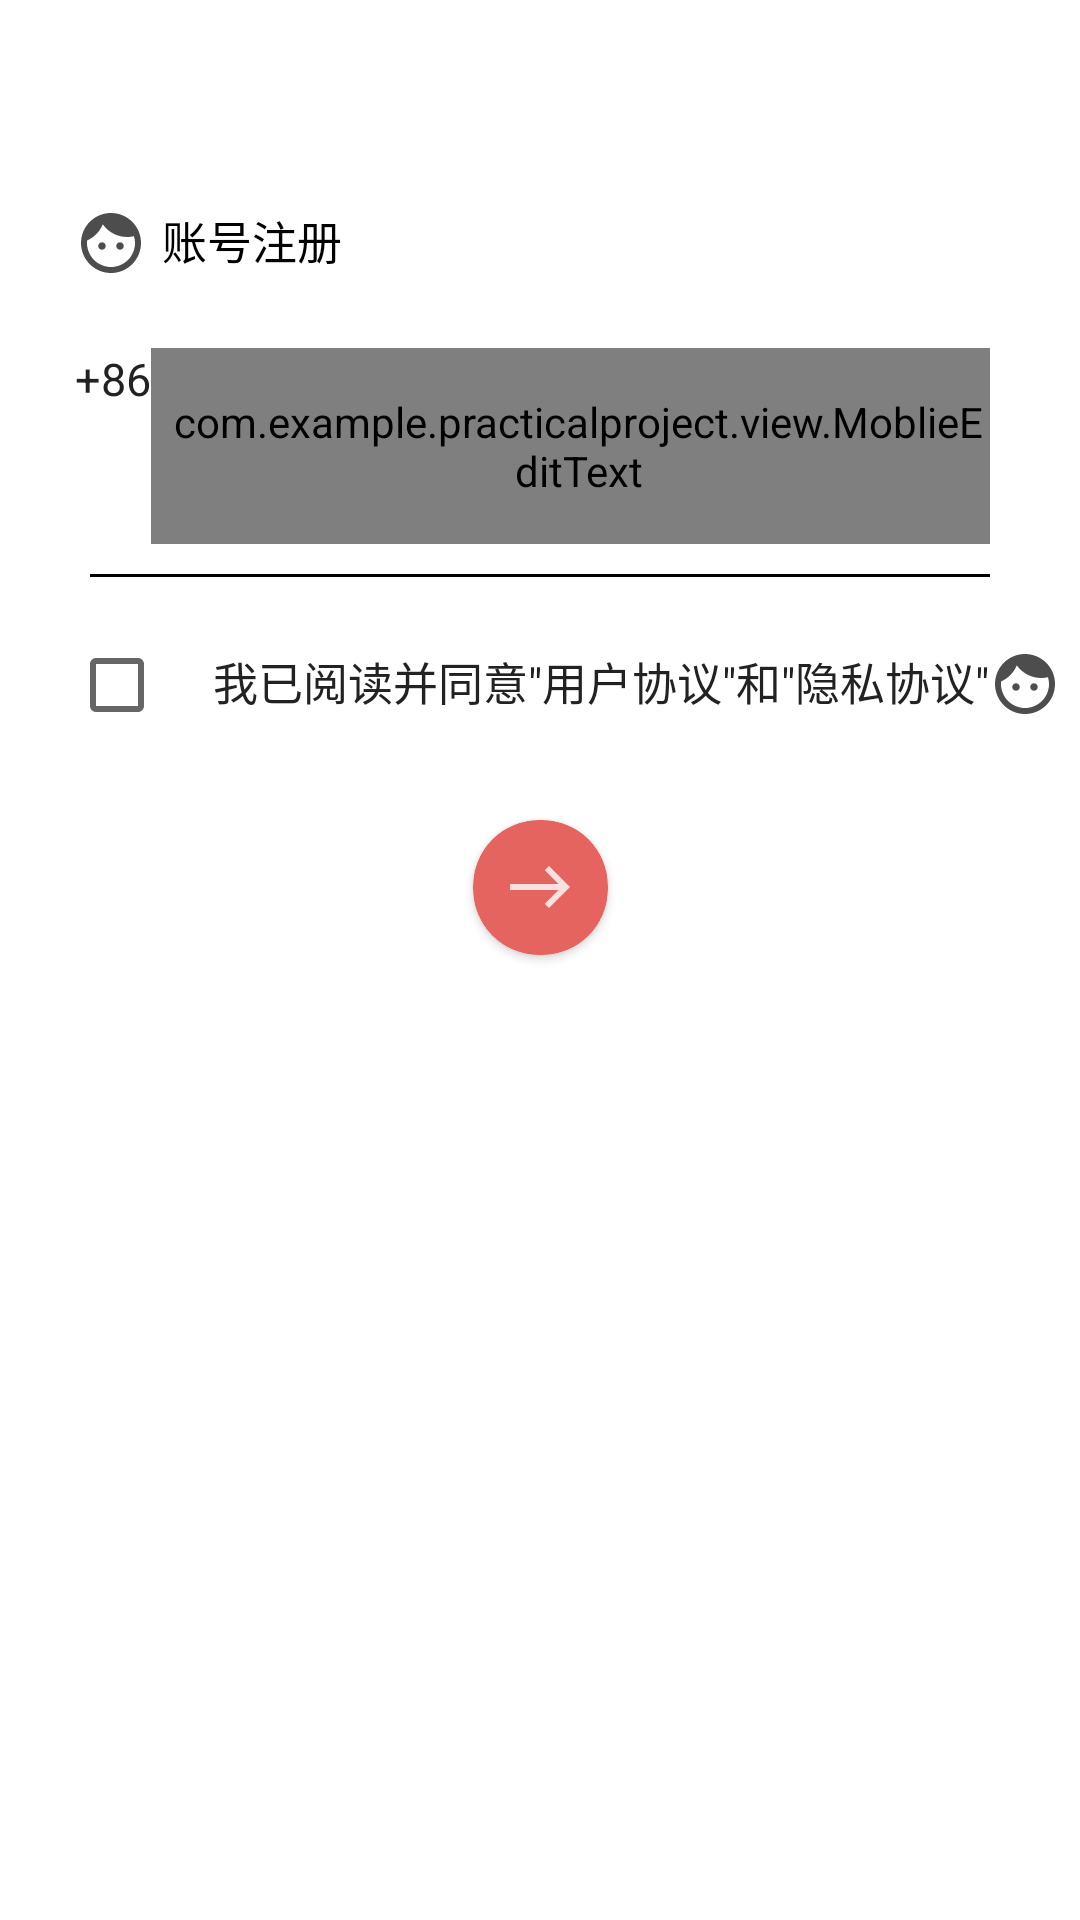

Where to tap for icons on this 1080x1920 app screen, as [x,y]:
next: [540,887]
